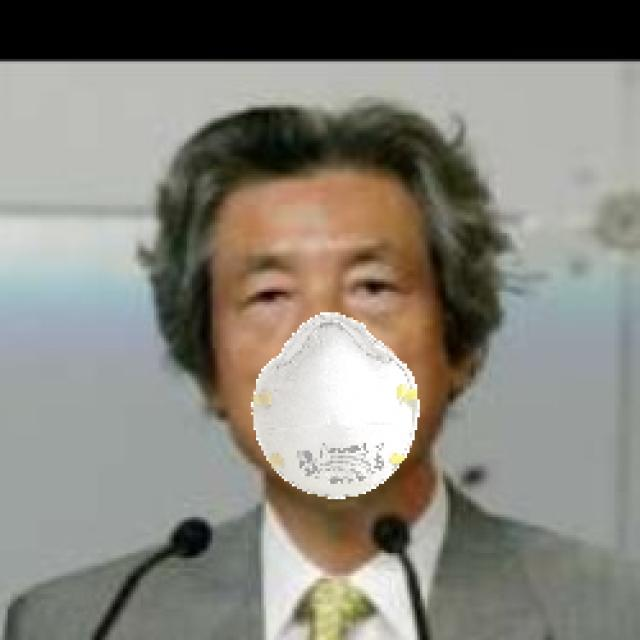mask: (258, 314, 427, 511)
